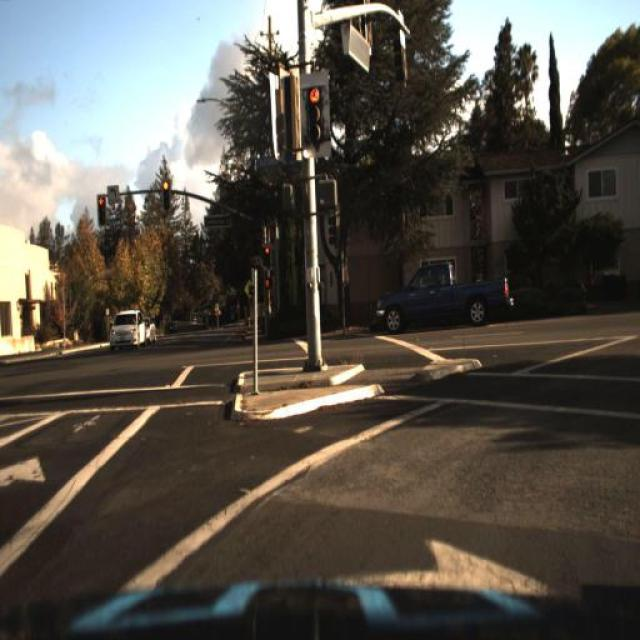car: (372, 254, 518, 338), (106, 305, 146, 349), (146, 314, 160, 358), (141, 317, 158, 348)
trafficLight-RedLeft: (302, 77, 326, 151), (158, 174, 170, 211), (260, 240, 272, 274), (262, 241, 272, 270)
